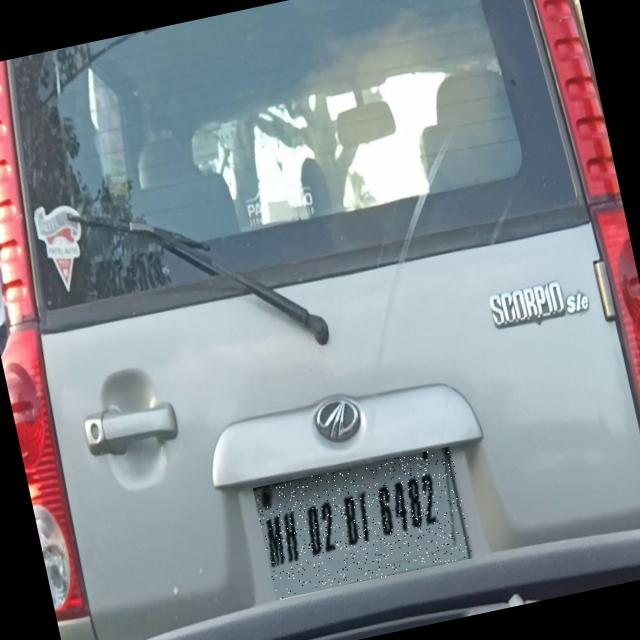Plate: (254, 447, 475, 601)
